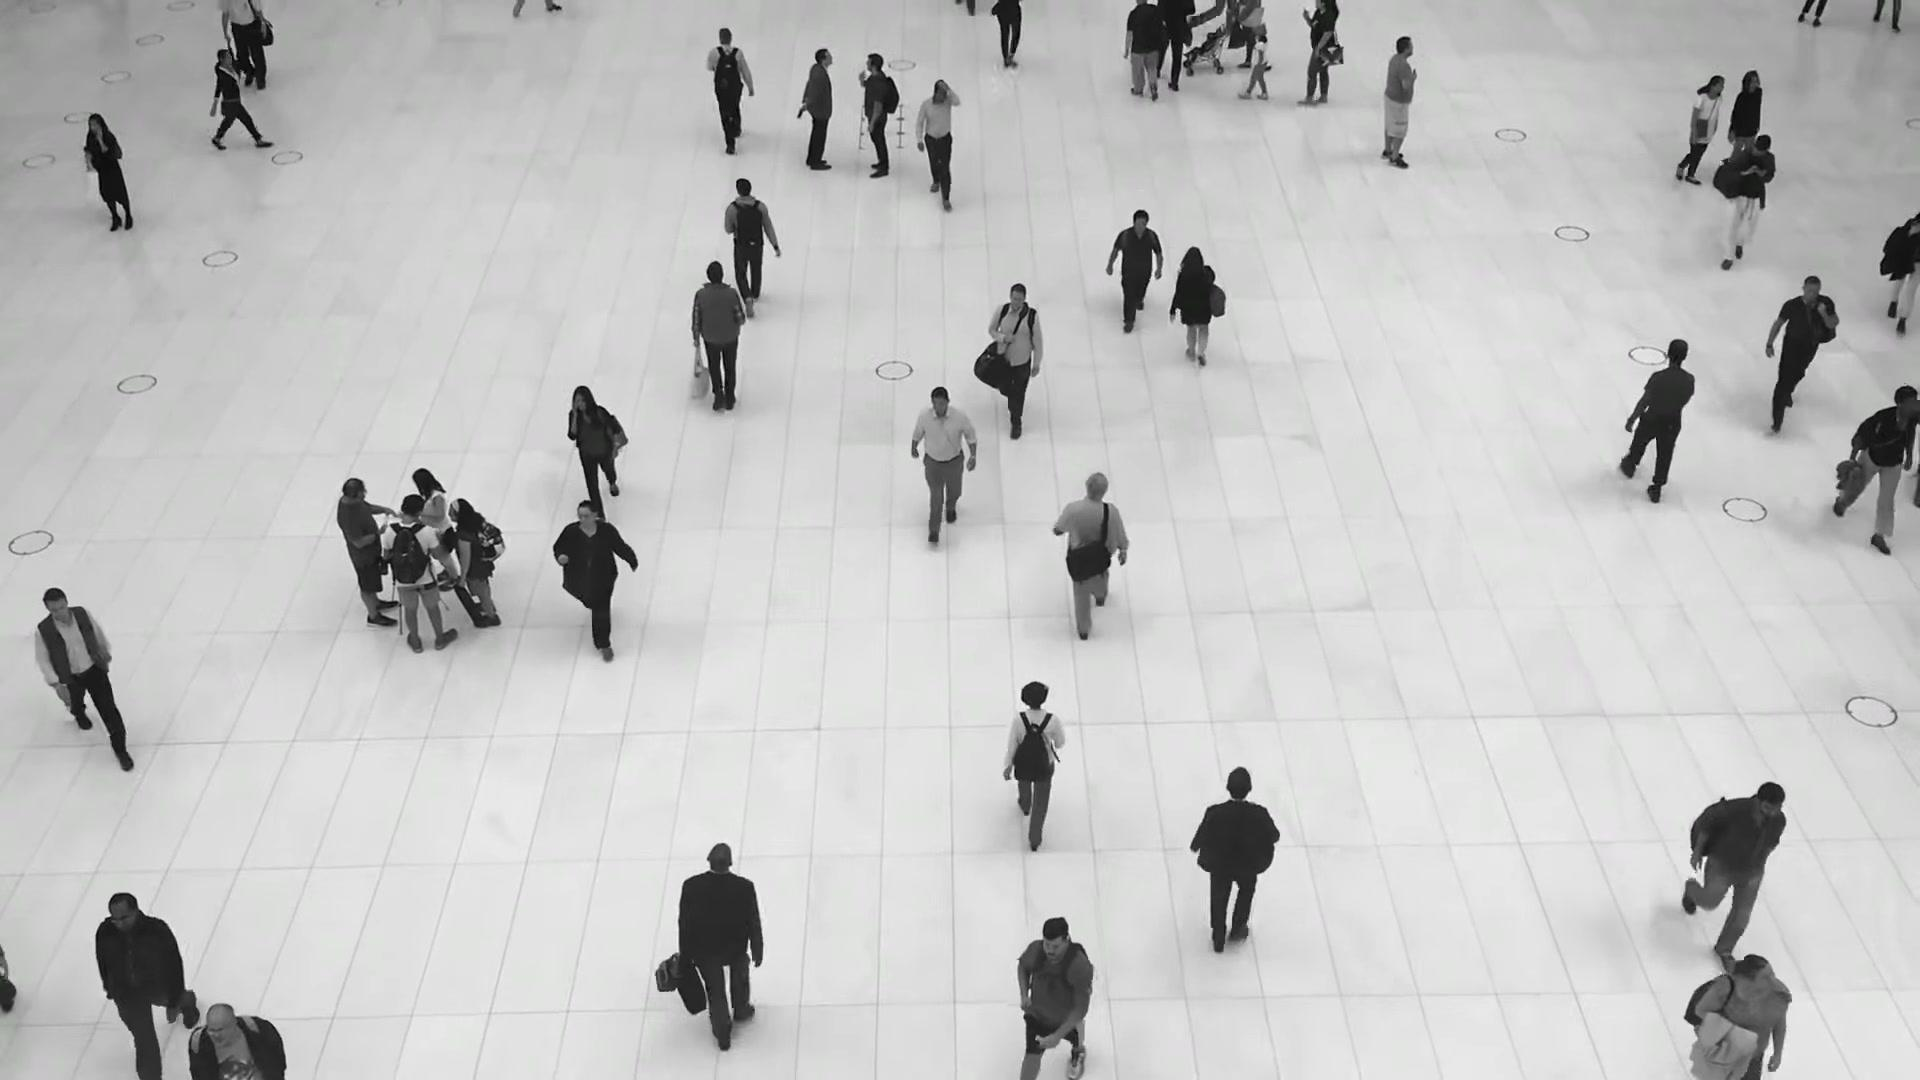person: (670, 847, 765, 1065), (92, 886, 196, 1080), (1686, 780, 1784, 970), (1193, 772, 1281, 981), (31, 583, 133, 757), (1013, 913, 1096, 1079), (1683, 956, 1794, 1080), (552, 496, 633, 656), (382, 493, 458, 652), (1056, 472, 1129, 634), (1765, 270, 1840, 424), (1843, 381, 1913, 546), (1626, 337, 1695, 497), (910, 383, 978, 537), (1004, 680, 1066, 846), (337, 476, 400, 629), (987, 283, 1044, 444), (690, 264, 747, 425), (1715, 134, 1776, 276), (723, 177, 777, 317), (568, 382, 627, 509), (448, 497, 502, 627), (1111, 205, 1164, 325), (913, 75, 960, 205), (84, 112, 134, 231), (412, 466, 459, 591), (1673, 75, 1725, 190), (706, 24, 752, 148), (1172, 249, 1217, 374), (213, 46, 267, 150), (858, 52, 900, 179), (1381, 34, 1419, 167), (1124, 0, 1171, 101), (1299, 0, 1339, 108), (1720, 70, 1764, 165), (799, 47, 834, 170), (1244, 30, 1272, 101)
